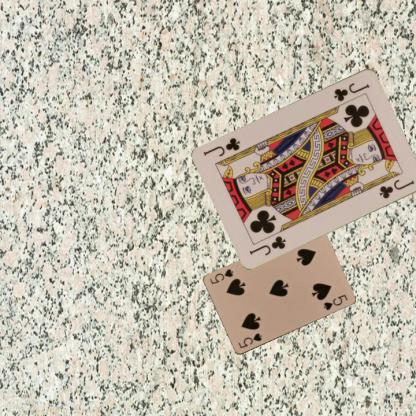5s: (236, 330, 263, 350)
Jc: (247, 233, 287, 256), (331, 80, 371, 102)
